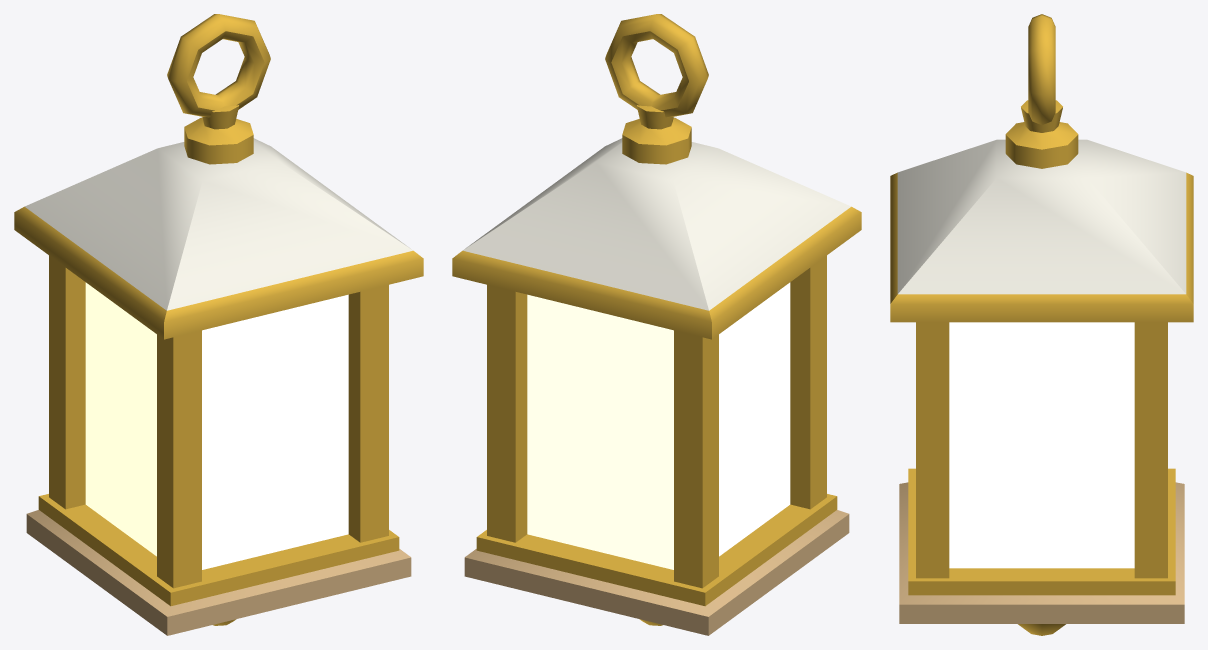
The model's file is lantern.lod1.glb.
The picture shows the model from 3 angles, left to right: view 1: azimuth 30°, elevation 25°; view 2: azimuth 150°, elevation 25°; view 3: azimuth 270°, elevation 25°; orthographic projection.
Visible parts, largest first — view 1: lantern_lod1; view 2: lantern_lod1; view 3: lantern_lod1.
Boxes of the visible parts, <box> form: lantern_lod1: <box>14,14,423,635</box>; lantern_lod1: <box>452,14,861,635</box>; lantern_lod1: <box>890,14,1193,635</box>.
Bounding box in the file's own units: 0.2 × 0.45 × 0.2.
